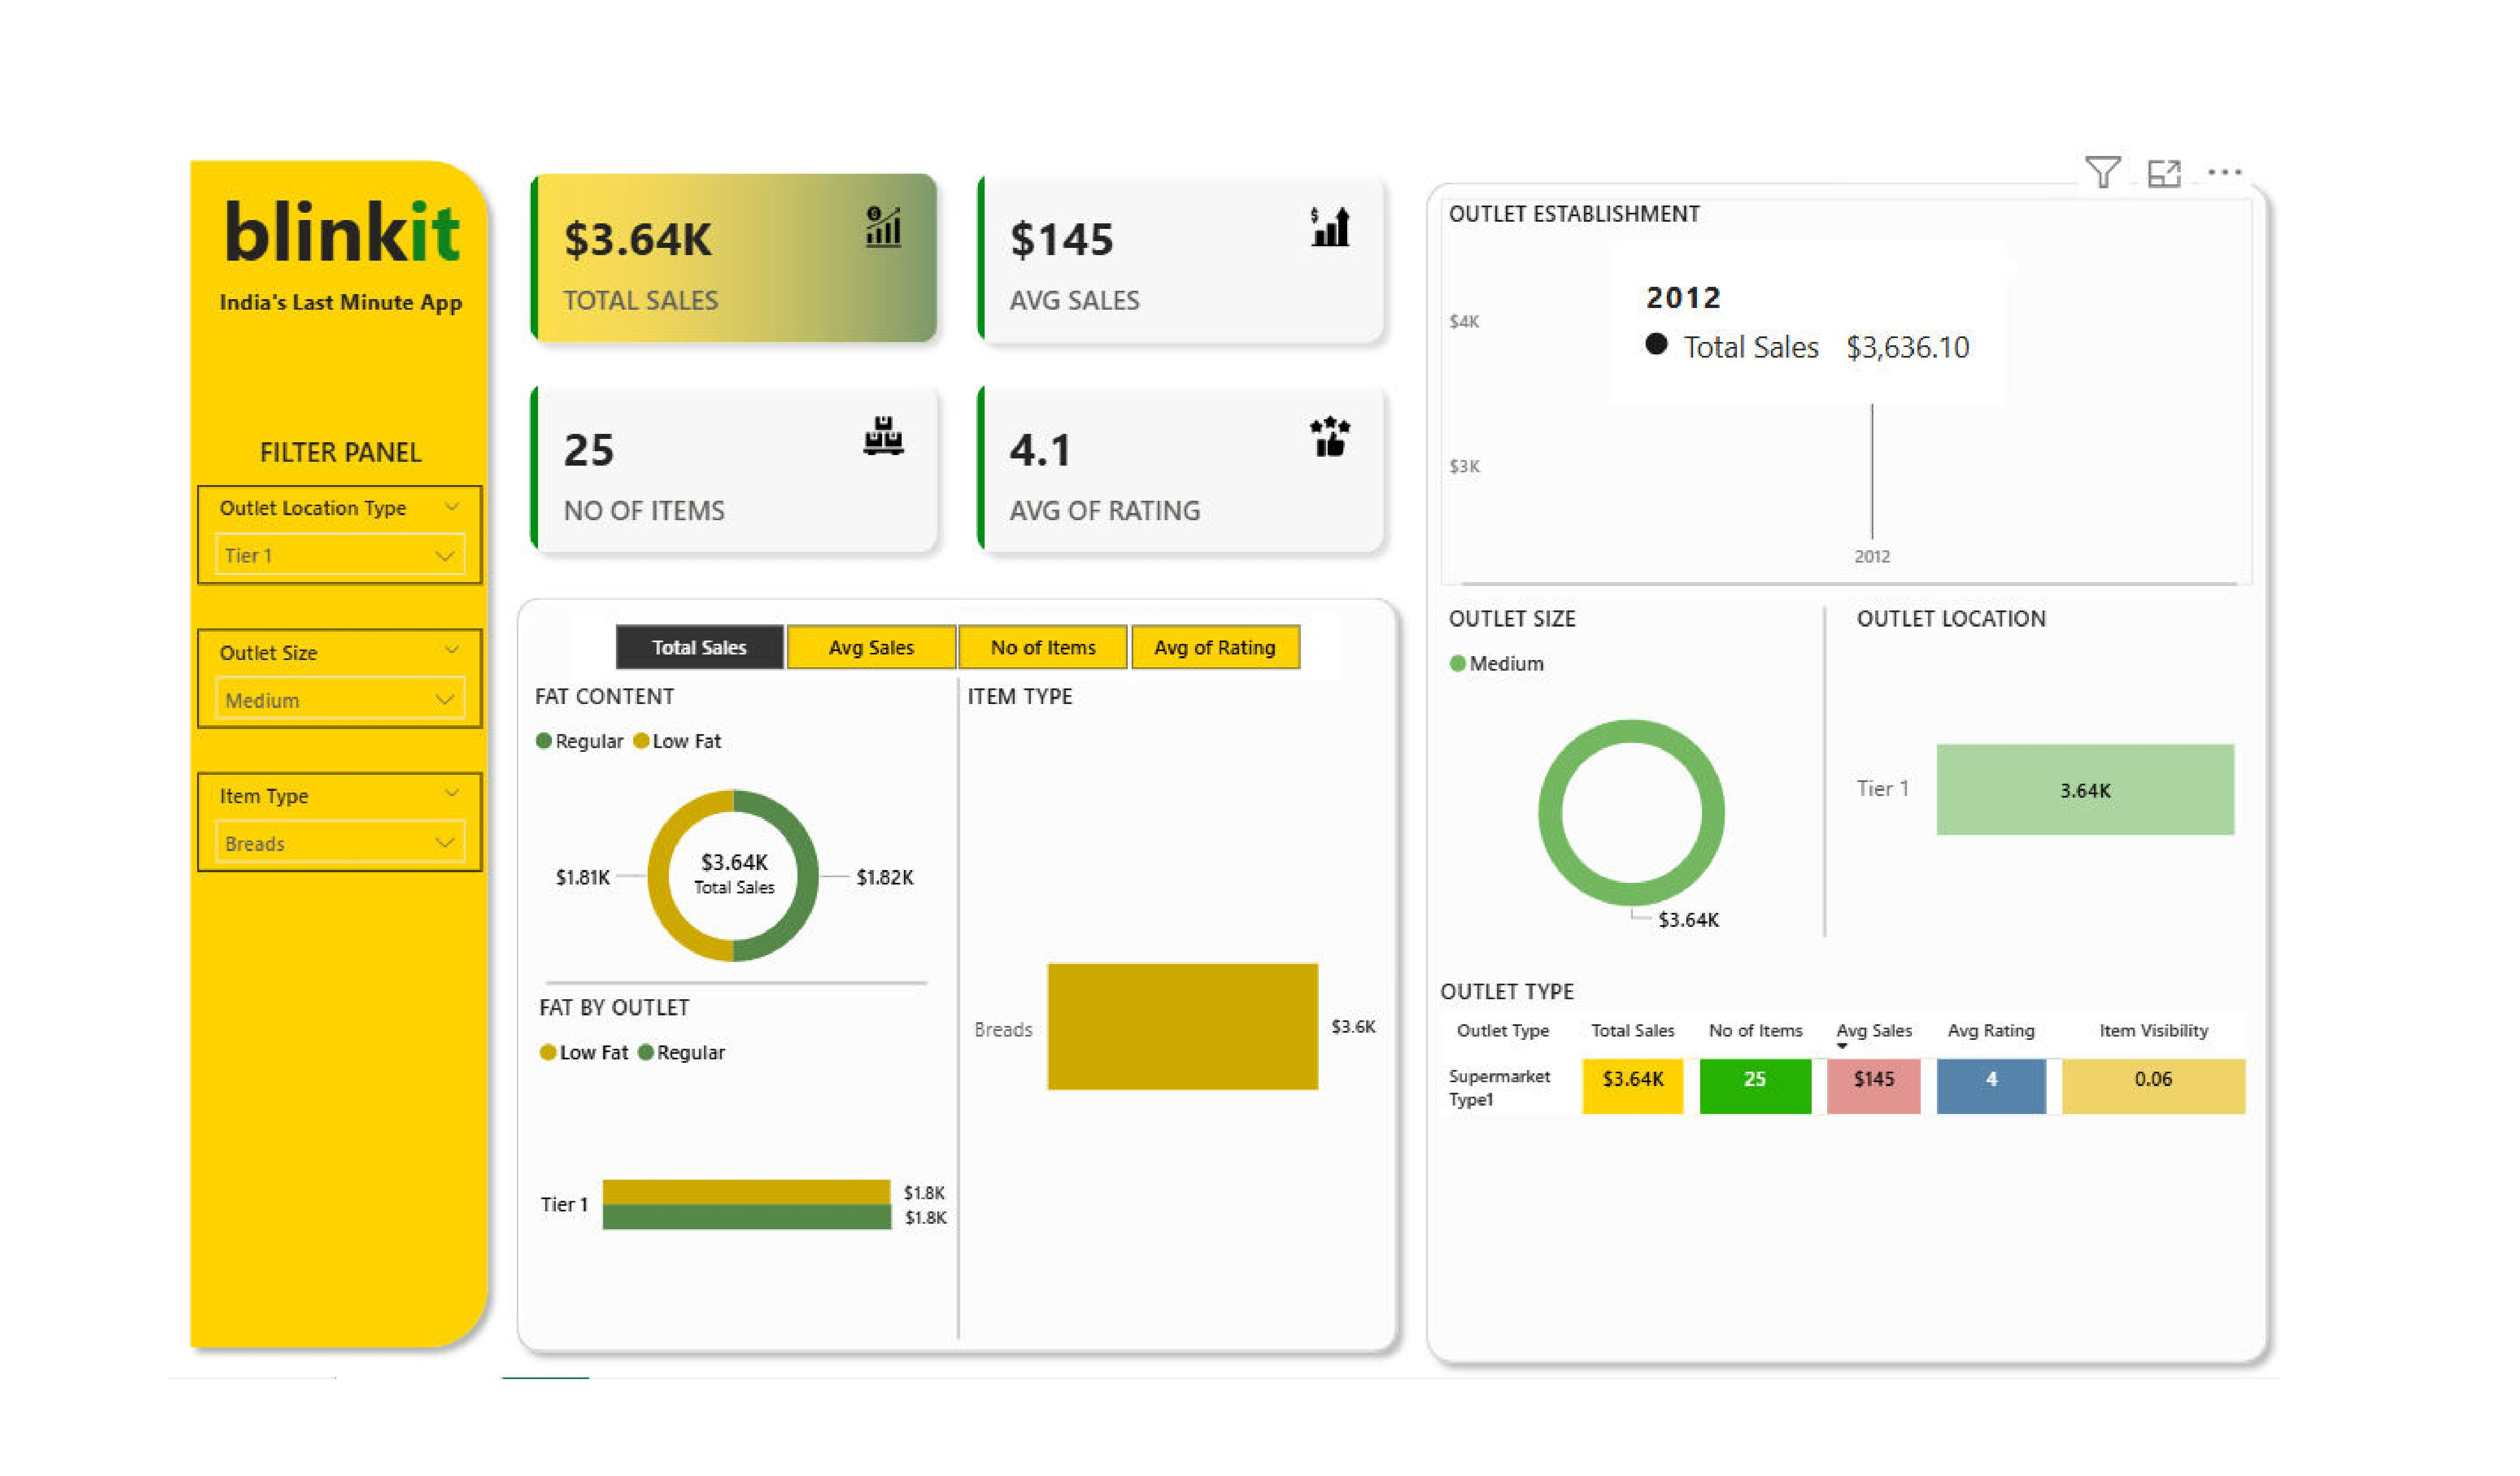

Layout of this report page (visuals, bound fields, positions):
{"tool":"powerbi","page":{"name":"Page 1","canvas":[1400,800],"ordinal":0},"visuals":[{"type":"shape","box":[35.7,52.9,198.6,738.6],"z":0},{"type":"textbox","box":[55.7,65.7,161.4,84.3],"z":1000},{"type":"textbox","box":[37.1,132.9,198.6,52.9],"z":2000},{"type":"cardVisual","fields":{"Data":["BlinkIT Grocery Data.Total Sales","BlinkIT Grocery Data.Avg Sales","BlinkIT Grocery Data.No of Items","BlinkIT Grocery Data.Avg of Rating"]},"box":[234.3,52.9,552.9,265.7],"z":3000},{"type":"shape","box":[234.1,318.2,552.3,475.8],"z":4000},{"type":"donutChart","title":"FAT CONTENT ","fields":{"Y":["BlinkIT Grocery Data.Total Sales"],"Category":["BlinkIT Grocery Data.Item Fat Content"]},"box":[250,377.1,251.4,192.9],"z":5000},{"type":"slicer","fields":{"Values":["Metrics.Metrics"]},"box":[277.7,336.2,465.3,40.5],"z":6000},{"type":"cardVisual","fields":{"Data":["BlinkIT Grocery Data.Total Sales"]},"box":[334.3,450,84.3,85.7],"z":7000},{"type":"clusteredBarChart","title":"FAT BY OUTLET","fields":{"Y":["BlinkIT Grocery Data.Total Sales"],"Category":["BlinkIT Grocery Data.Outlet Location Type"],"Series":["BlinkIT Grocery Data.Item Fat Content"]},"box":[251.4,565.7,260,207.1],"z":8000},{"type":"shape","box":[261.4,544.3,231.4,32.9],"z":9000},{"type":"shape","box":[432.9,375.7,157.1,401.4],"z":10000},{"type":"barChart","title":"ITEM TYPE ","fields":{"Y":["BlinkIT Grocery Data.Total Sales"],"Category":["BlinkIT Grocery Data.Item Type"]},"box":[511.4,377.1,260,400],"z":11000},{"type":"shape","box":[787.1,65.7,528.6,734.3],"z":12000},{"type":"lineChart","title":"OUTLET ESTABLISHMENT","fields":{"Y":["BlinkIT Grocery Data.Total Sales"],"Category":["BlinkIT Grocery Data.Outlet Establishment Year"]},"box":[804.3,84.3,492.9,234.3],"z":13000},{"type":"shape","box":[817.1,130,470,377.1],"z":14000},{"type":"donutChart","title":"OUTLET SIZE","fields":{"Y":["BlinkIT Grocery Data.Total Sales"],"Category":["BlinkIT Grocery Data.Outlet Size"]},"box":[804.3,330,232.9,210],"z":15000},{"type":"shape","box":[971.4,332.9,131.4,200],"z":16000},{"type":"funnel","title":"OUTLET LOCATION ","fields":{"Y":["Sum(BlinkIT Grocery Data.Sales)"],"Category":["BlinkIT Grocery Data.Outlet Location Type"]},"box":[1052.9,330,244.3,210],"z":17000},{"type":"pivotTable","title":"OUTLET TYPE","fields":{"Rows":["BlinkIT Grocery Data.Outlet Type"],"Values":["BlinkIT Grocery Data.Total Sales","BlinkIT Grocery Data.No of Items","BlinkIT Grocery Data.Avg Sales","BlinkIT Grocery Data.Avg of Rating","Avg(BlinkIT Grocery Data.Item Visibility)"]},"box":[804.3,555.7,510,217.1],"z":18000},{"type":"slicer","fields":{"Values":["BlinkIT Grocery Data.Outlet Location Type"]},"box":[50,258.6,172.9,60],"z":19000},{"type":"slicer","fields":{"Values":["BlinkIT Grocery Data.Outlet Size"]},"box":[50,345.7,172.9,60],"z":20000},{"type":"slicer","fields":{"Values":["BlinkIT Grocery Data.Item Type"]},"box":[50,432.9,172.9,60],"z":21000},{"type":"textbox","box":[38.6,222.9,195.7,35.7],"z":21001}]}

Visuals, with their boxes on the page's 1400x800 design canvas (x1, y1, x2, y2). These are canvas units, not pixel positions in the 2520x1476 screenshot, which may show the page scaled, cropped or inside an application window:
shape: bbox=[36, 53, 234, 792]
textbox: bbox=[56, 66, 217, 150]
textbox: bbox=[37, 133, 236, 186]
cardVisual - BlinkIT Grocery Data.Total Sales x BlinkIT Grocery Data.Avg Sales: bbox=[234, 53, 787, 319]
shape: bbox=[234, 318, 786, 794]
"FAT CONTENT " donutChart: bbox=[250, 377, 501, 570]
slicer - Metrics.Metrics: bbox=[278, 336, 743, 377]
cardVisual - BlinkIT Grocery Data.Total Sales: bbox=[334, 450, 419, 536]
"FAT BY OUTLET" clusteredBarChart: bbox=[251, 566, 511, 773]
shape: bbox=[261, 544, 493, 577]
shape: bbox=[433, 376, 590, 777]
"ITEM TYPE " barChart: bbox=[511, 377, 771, 777]
shape: bbox=[787, 66, 1316, 800]
"OUTLET ESTABLISHMENT" lineChart: bbox=[804, 84, 1297, 319]
shape: bbox=[817, 130, 1287, 507]
"OUTLET SIZE" donutChart: bbox=[804, 330, 1037, 540]
shape: bbox=[971, 333, 1103, 533]
"OUTLET LOCATION " funnel: bbox=[1053, 330, 1297, 540]
"OUTLET TYPE" pivotTable: bbox=[804, 556, 1314, 773]
slicer - BlinkIT Grocery Data.Outlet Location Type: bbox=[50, 259, 223, 319]
slicer - BlinkIT Grocery Data.Outlet Size: bbox=[50, 346, 223, 406]
slicer - BlinkIT Grocery Data.Item Type: bbox=[50, 433, 223, 493]
textbox: bbox=[39, 223, 234, 259]
